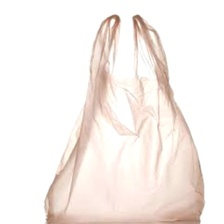plastic_bag: (41, 13, 210, 224)
